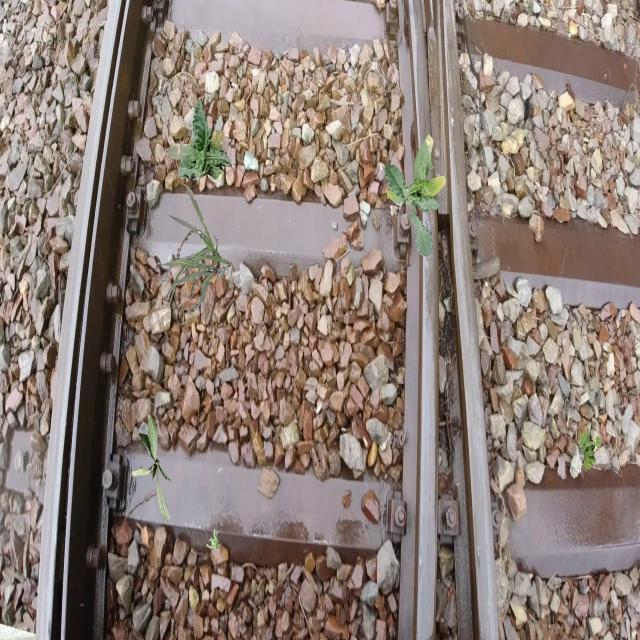Plant: (158, 185, 231, 310), (384, 134, 446, 258), (168, 98, 232, 181), (132, 413, 172, 523), (578, 429, 602, 470), (207, 529, 221, 550)
